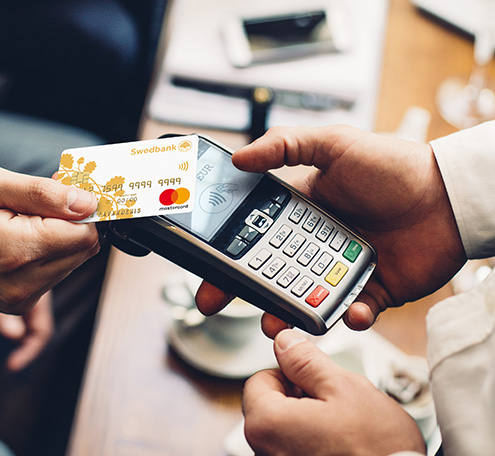tarjeta: (53, 134, 201, 224)
